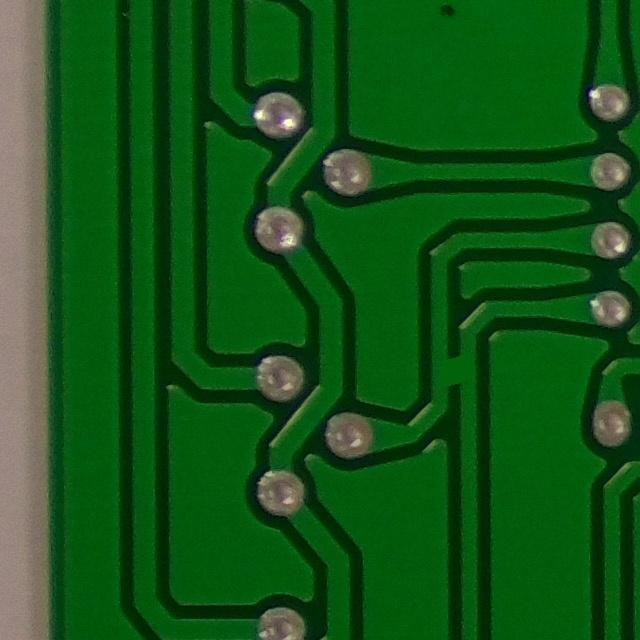short: (428, 337, 488, 401)
